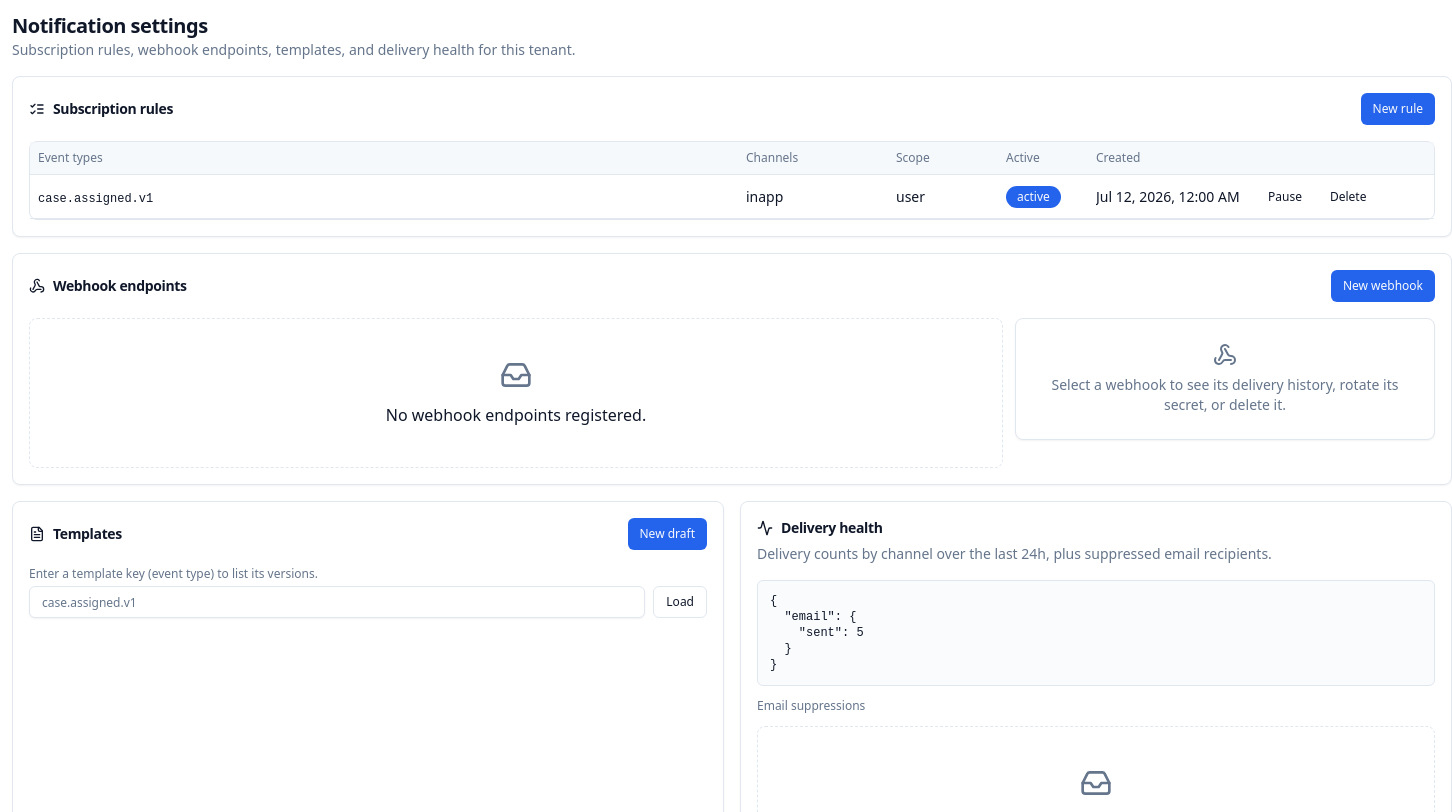
Test case: Admin notification settings page › creates a webhook and surfaces the signing secret ONCE
Check: the table named "Subscription rules" is shown, box [29, 141, 1435, 220]
Click the button "New webhook": (1383, 286) [1331, 270, 1435, 302]
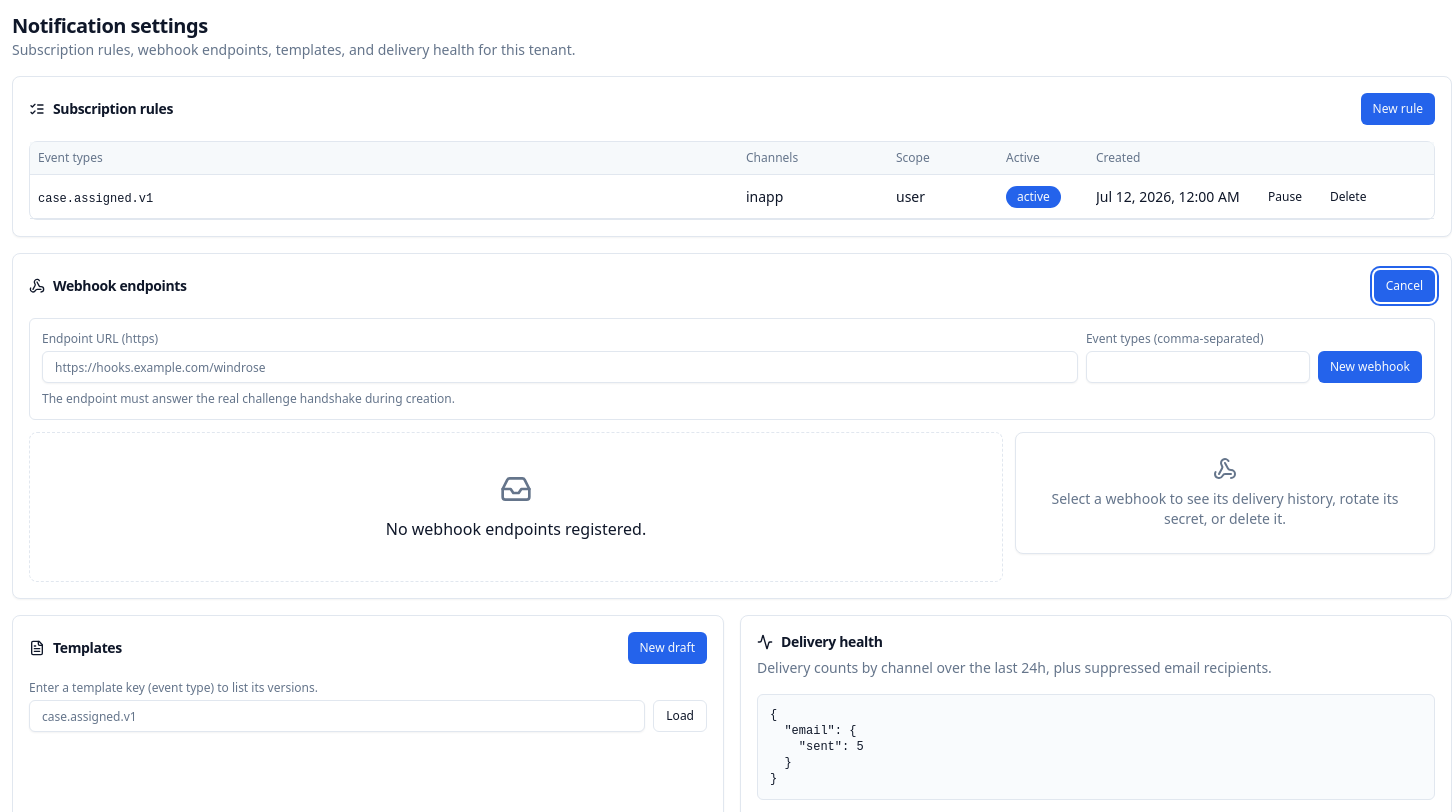
In the field named "Webhook URL": (560, 367) [42, 351, 1078, 383], type "https://hooks.example.com/x"
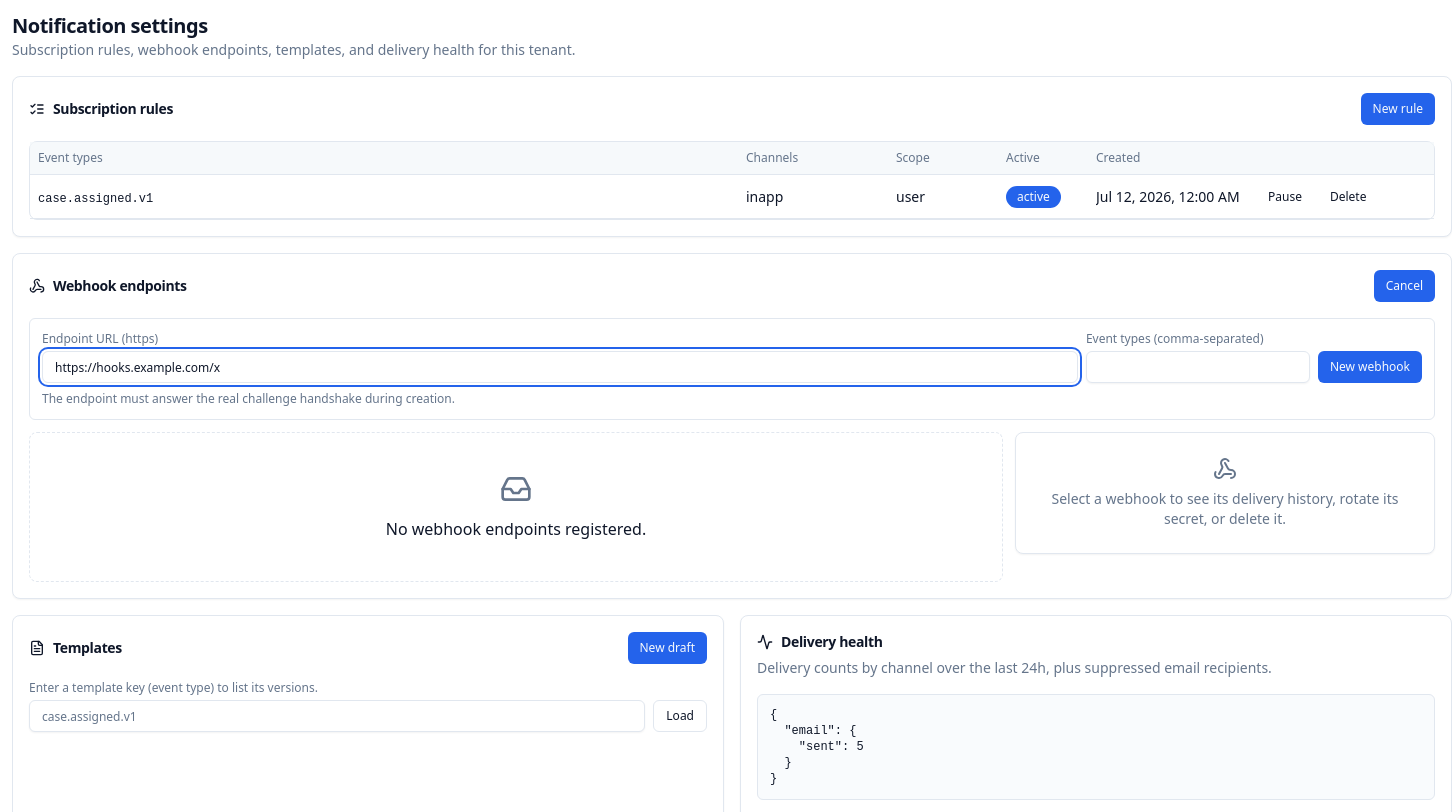
In the field named "Webhook event types": (1198, 367) [1086, 351, 1310, 383], type "case.assigned.v1"
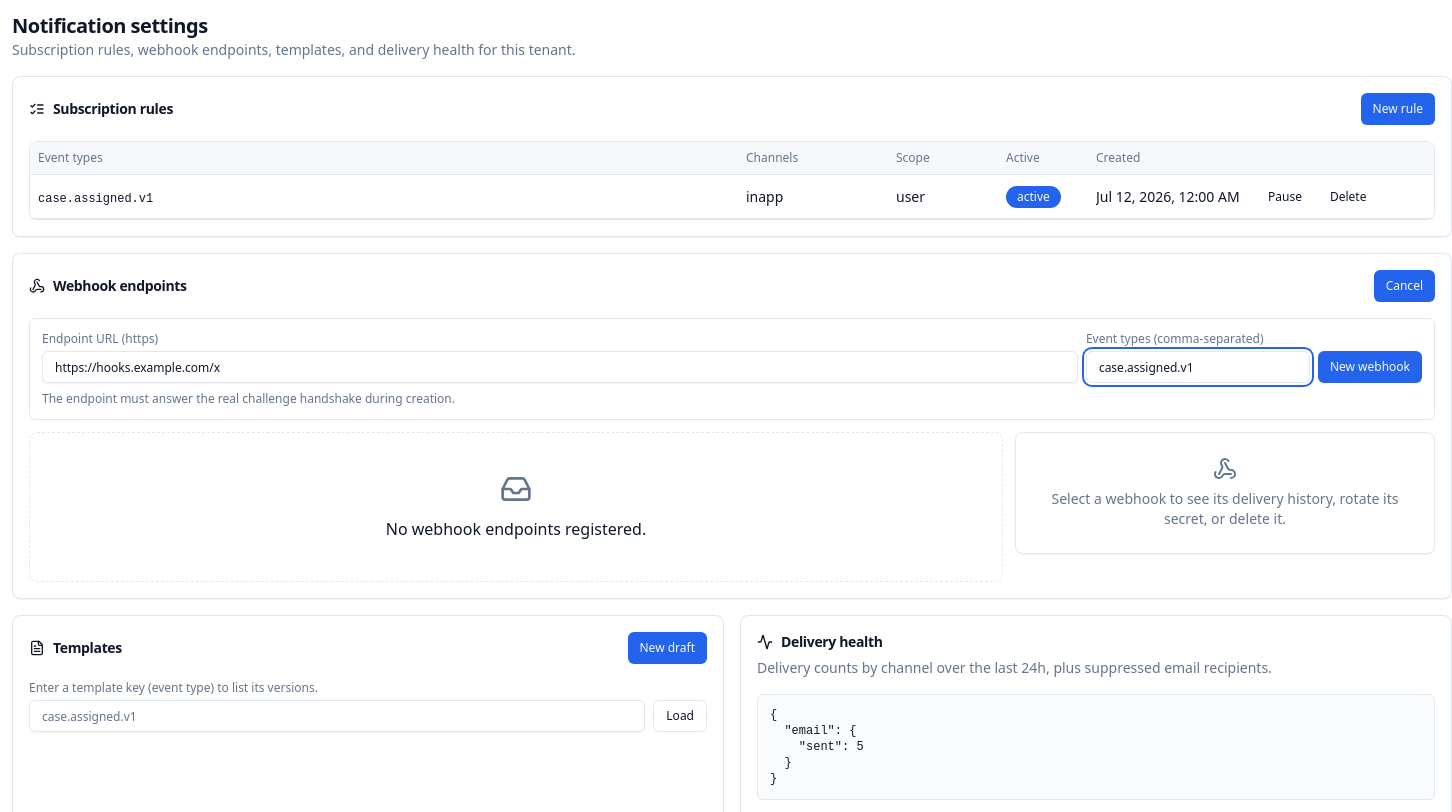
Click the button "New webhook": (1370, 367) [1318, 351, 1422, 383]
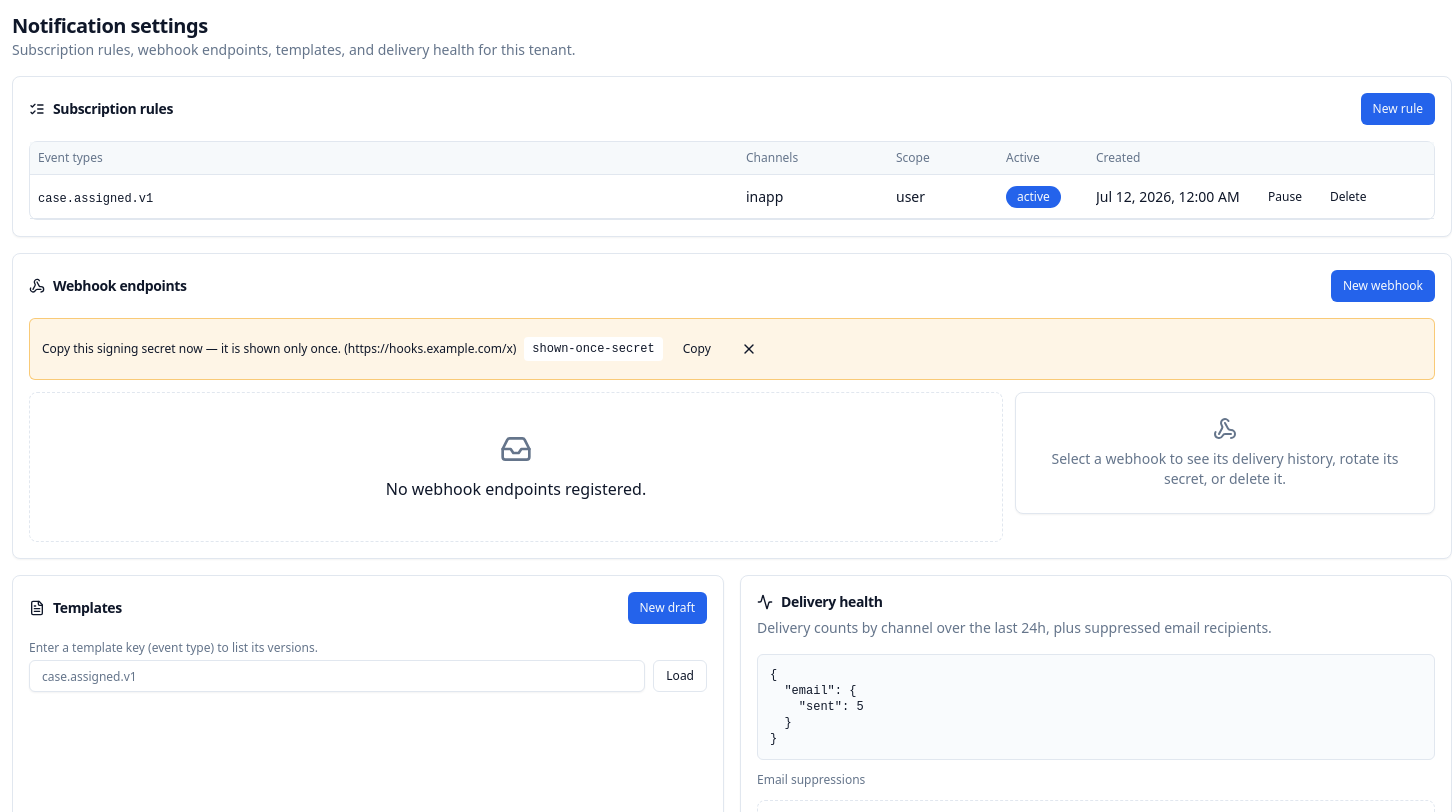
Check: the text with test id "webhook-secret" reads "shown-once-secret", box [532, 342, 655, 356]
// Dismissing removes it — it is not re-fetchable from the list selection.
Click the button named "Dismiss secret": (749, 349) [731, 331, 767, 367]
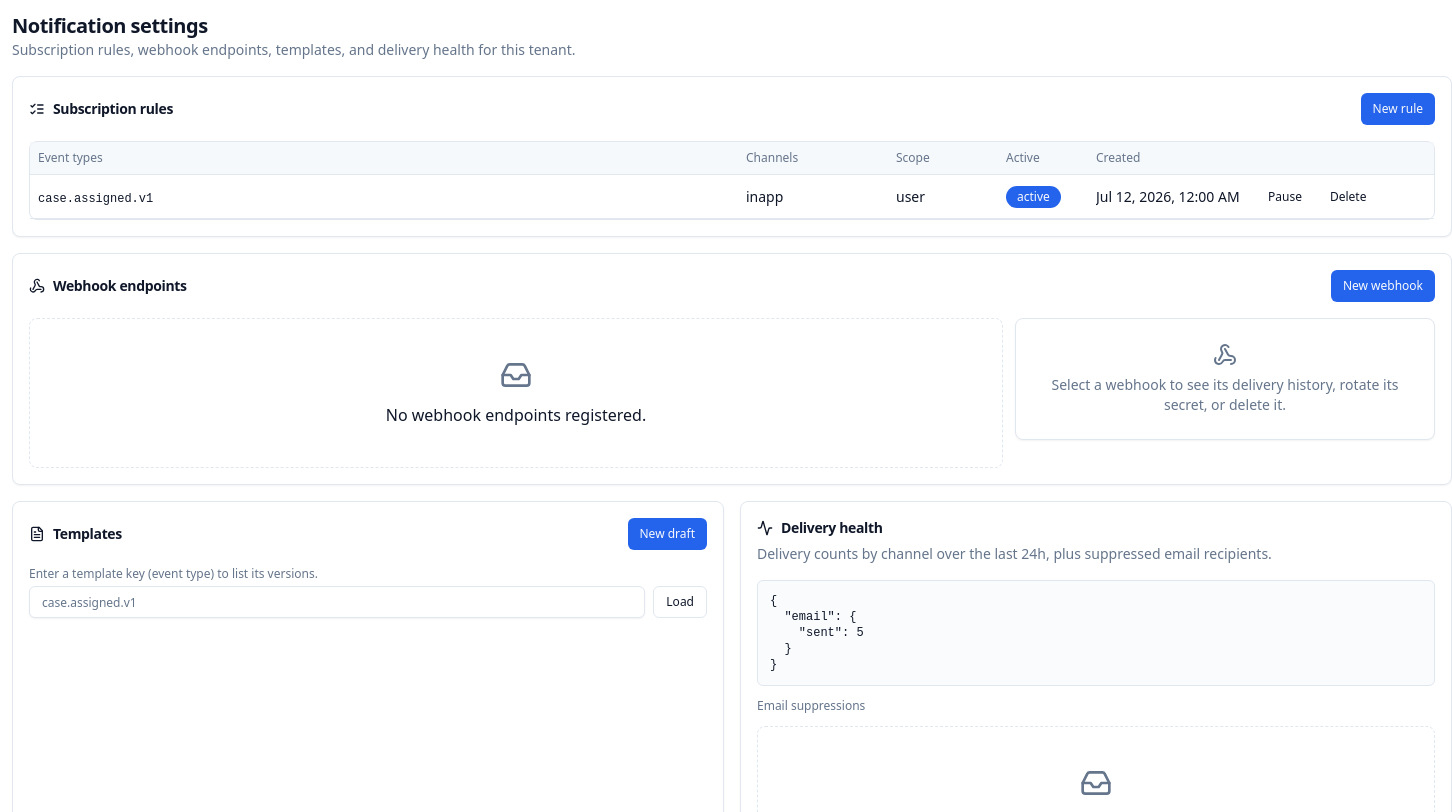
Check: the text with test id "webhook-secret" is gone
